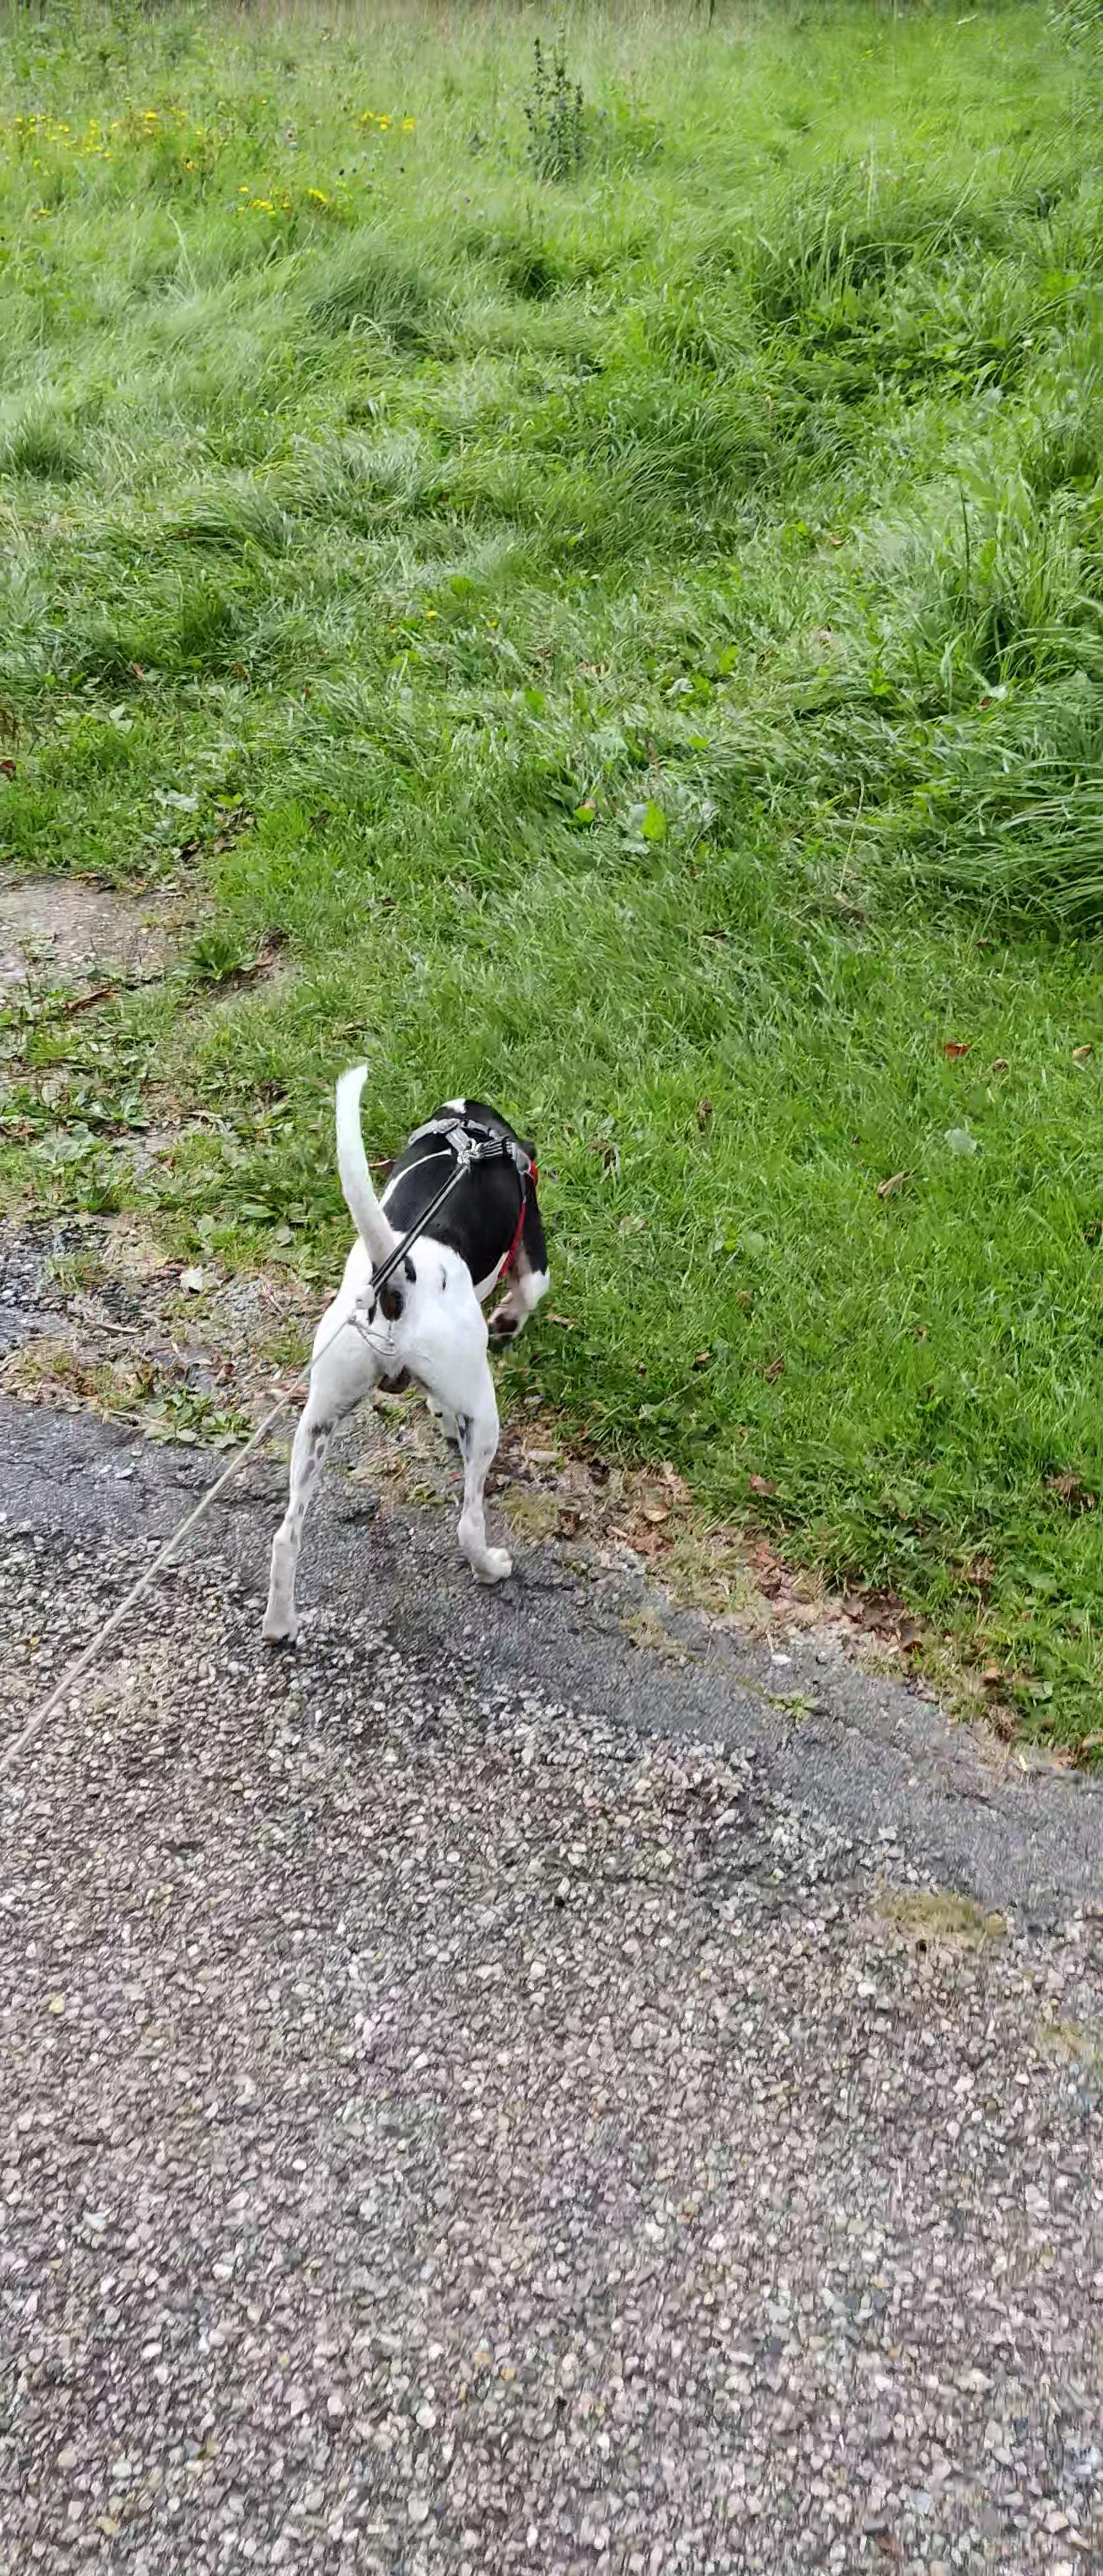Dog: (243, 1056, 559, 1666)
